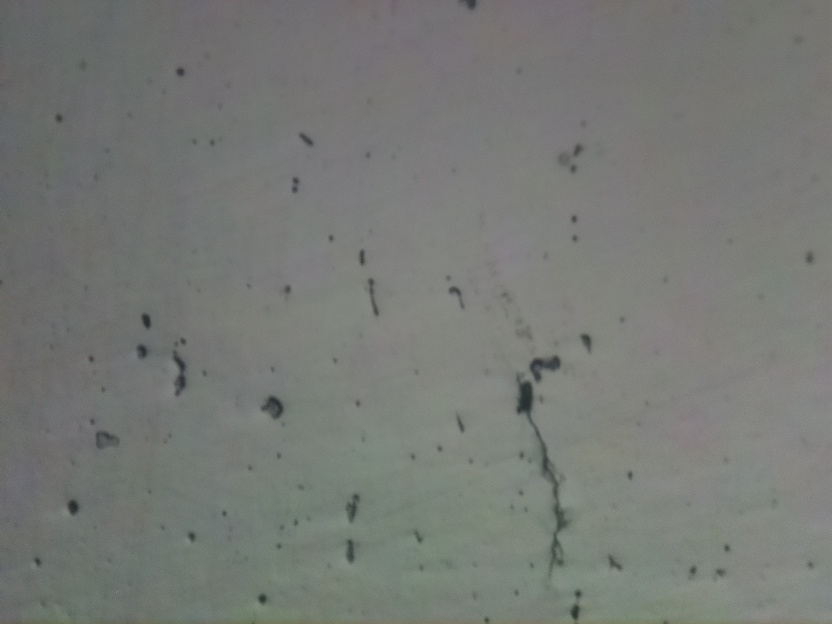crack: (513, 375, 573, 568)
